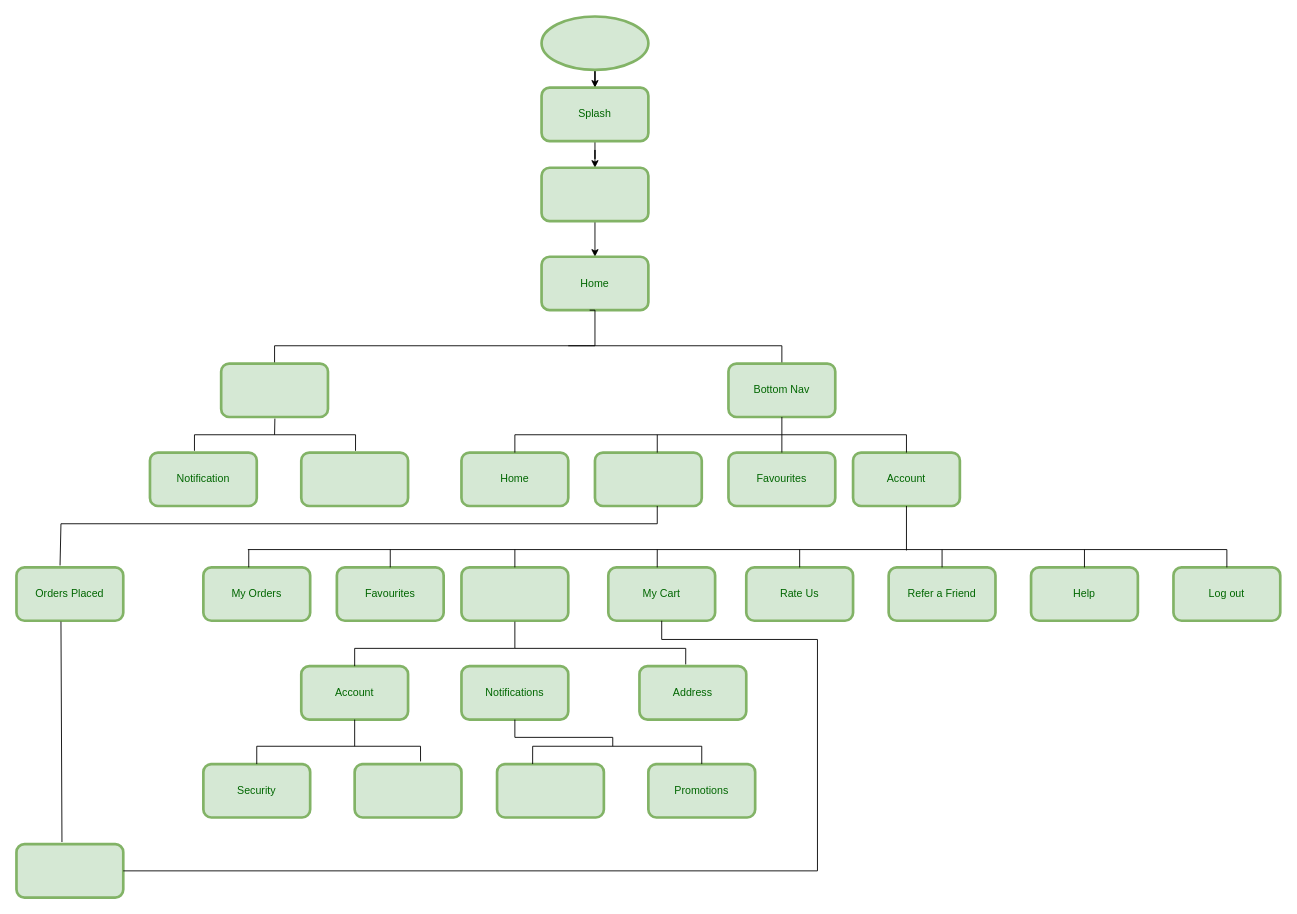
Image size: 1297x914. Some labels were removed from this diagram. The centre of each missing label's shape, as x and y in pixels:
"Agricode Market App" belongs at (x=594, y=43).
"Deactivate Account" belongs at (x=407, y=790).
"Make Payment" belongs at (x=69, y=870).
"My Account" belongs at (x=550, y=790).
"Onboarding" belongs at (x=594, y=194).
"Search" belongs at (x=354, y=479).
"Settings" belongs at (x=514, y=594).
"Shopping Cart" belongs at (x=648, y=479).
"Top Nav" belongs at (x=274, y=390).
